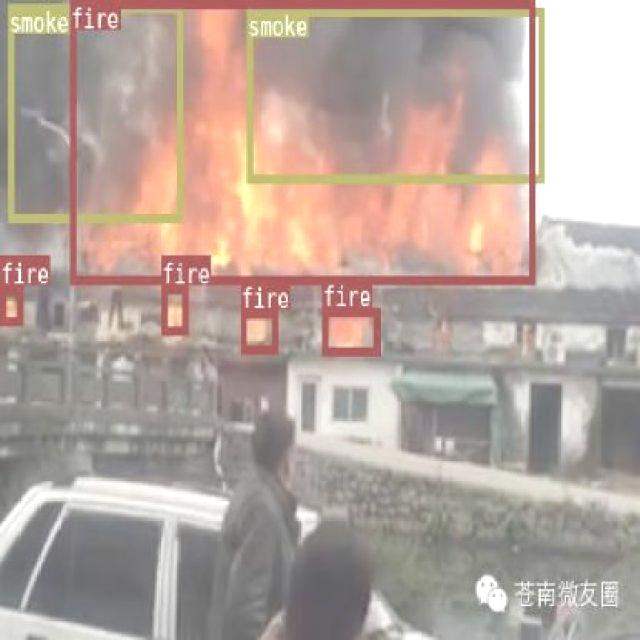fire: (69, 0, 534, 283), (320, 306, 380, 354), (239, 306, 276, 352), (160, 284, 186, 334), (0, 283, 22, 325)
smoke: (246, 6, 543, 182), (7, 2, 181, 220)
